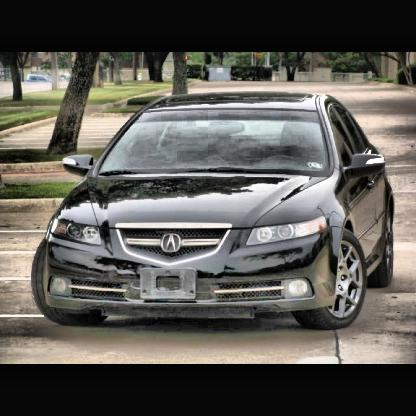Acura TL Type-S 2008: (32, 91, 398, 333)
